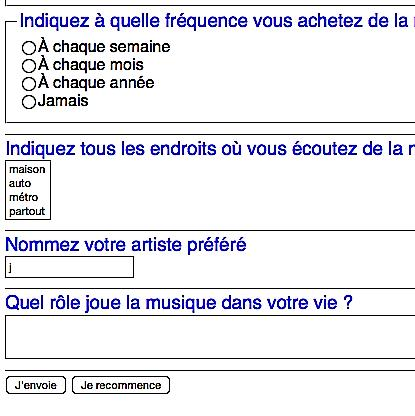button: (71, 375, 171, 396), (4, 375, 68, 395)
field: (4, 255, 135, 280)
field_with_label: (2, 234, 247, 280)
radio: (20, 93, 37, 111), (20, 39, 37, 56), (20, 75, 37, 91), (20, 57, 35, 75)
radio_with_label: (18, 36, 171, 58), (16, 73, 155, 95), (18, 55, 145, 76), (16, 93, 89, 112)
